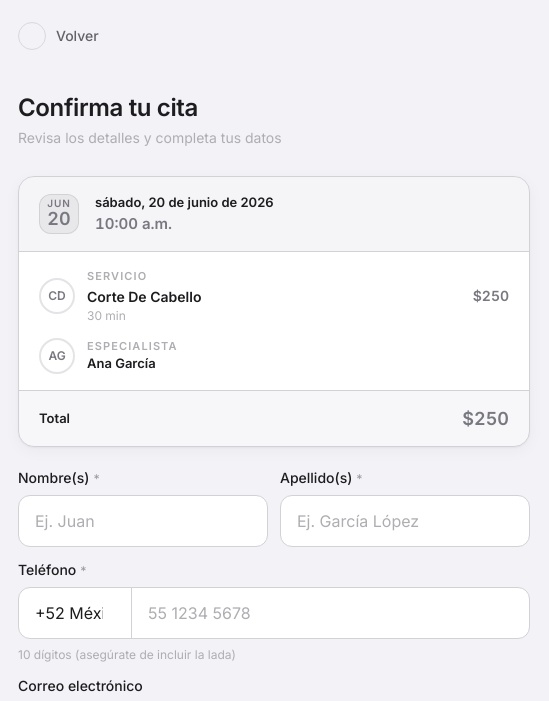
Scenario: ClientForm — name validation › shows error when name contains numbers
Step 1. Type "Juan123" into the field labelled "Nombre(s)*" → (143, 521), box [18,495,268,547]
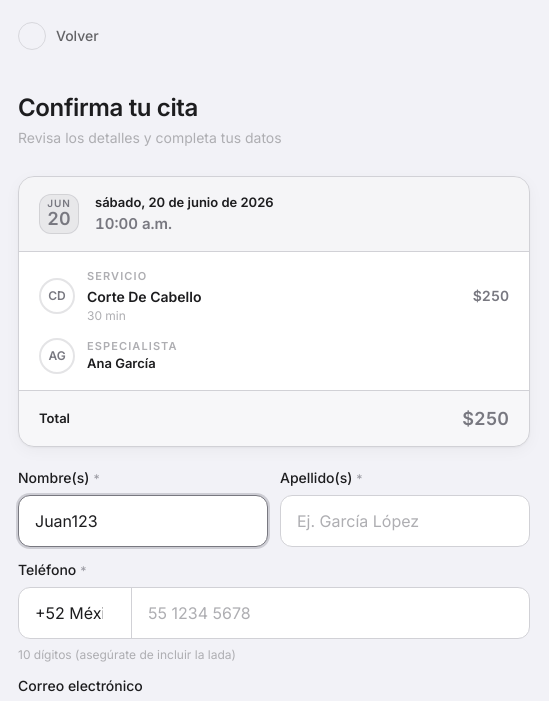
Step 2. Press Tab
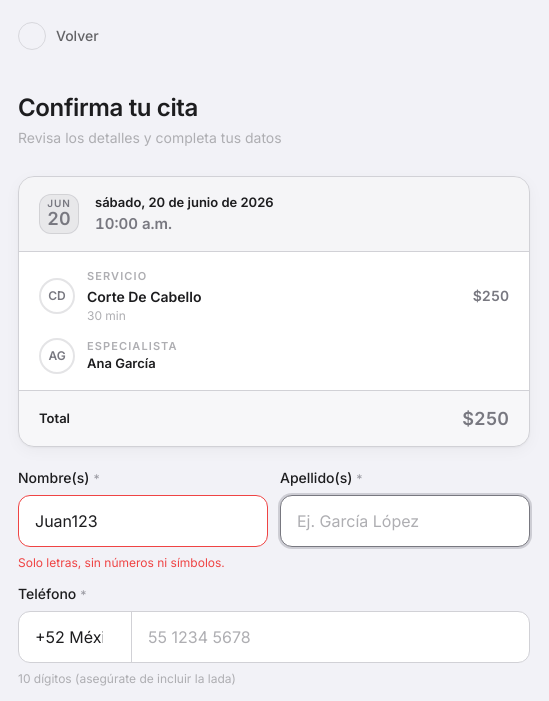
Check: the text "Solo letras, sin números ni símbolos." is shown, box [18,555,225,570]
